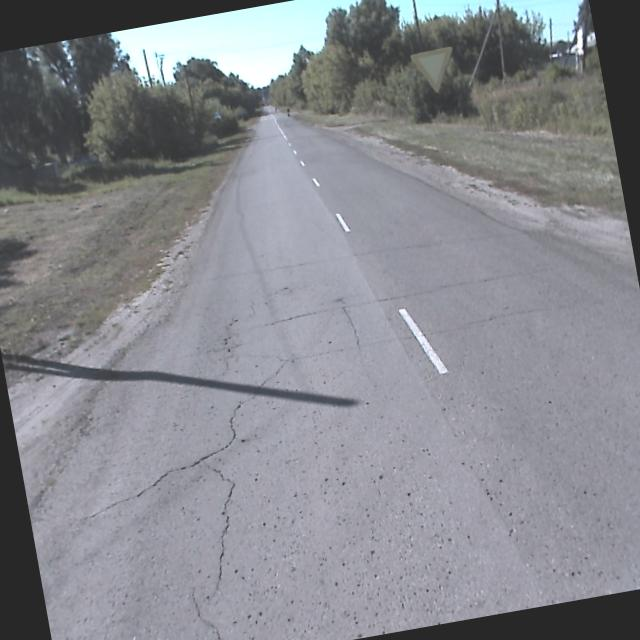road: (33, 105, 640, 640)
